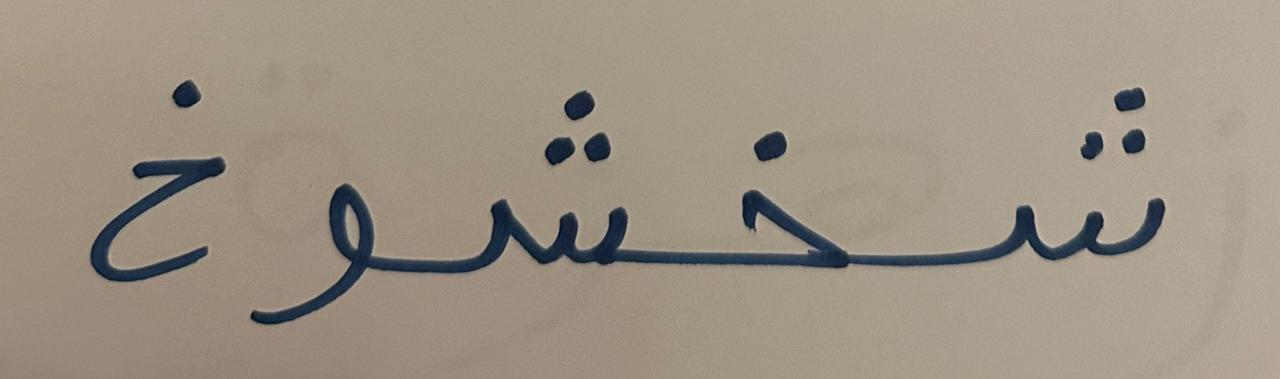lam: (657, 23, 883, 335), (71, 25, 234, 317)
tah: (887, 42, 1224, 332), (426, 29, 654, 332)
yeh: (238, 107, 420, 359)
